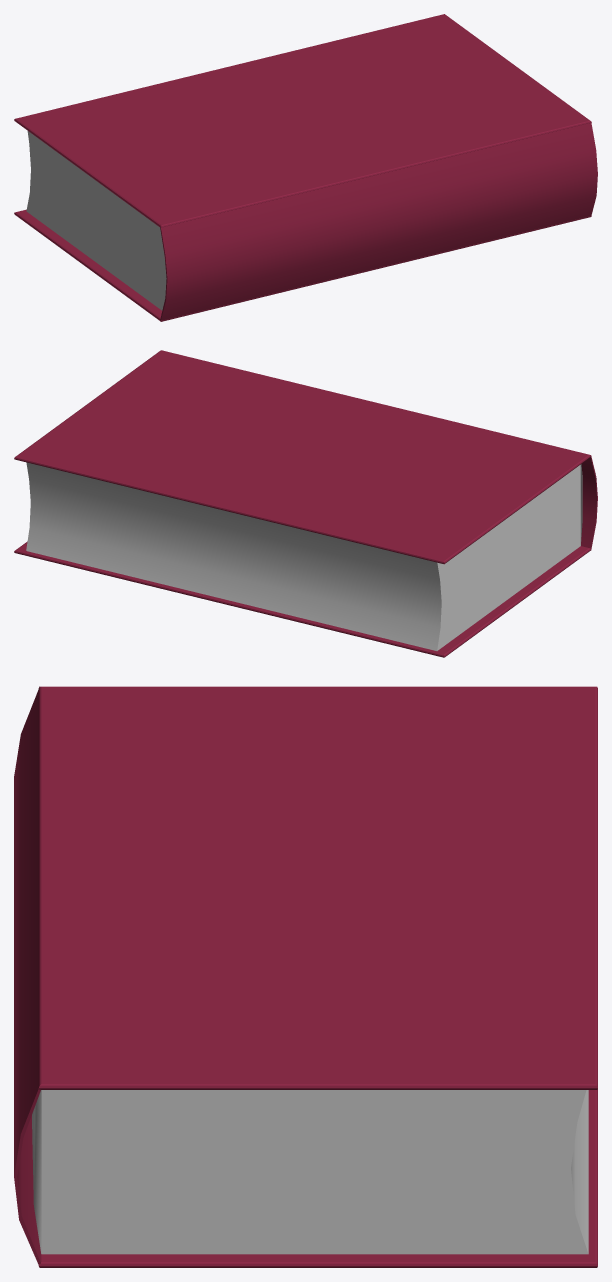
The model's file is red_book.glb.
The picture shows the model from 3 angles, top to bottom: view 1: azimuth 30°, elevation 25°; view 2: azimuth 150°, elevation 25°; view 3: azimuth 270°, elevation 25°; orthographic projection. The views are drawn at different scales.
Visible parts, largest first — view 1: face_avant, tranche, pages, face_arriere; view 2: face_avant, pages, face_arriere, tranche; view 3: face_avant, pages, tranche, face_arriere.
Boxes of the visible parts, left/top/right/bottom form: face_avant: left=14, top=14, right=591, bottom=227; tranche: left=160, top=123, right=597, bottom=321; pages: left=26, top=131, right=166, bottom=310; face_arriere: left=14, top=209, right=591, bottom=321; face_avant: left=14, top=350, right=590, bottom=564; pages: left=26, top=462, right=582, bottom=650; face_arriere: left=14, top=541, right=590, bottom=657; tranche: left=581, top=457, right=596, bottom=548; face_avant: left=38, top=686, right=597, bottom=1089; pages: left=32, top=1090, right=588, bottom=1254; tranche: left=14, top=690, right=40, bottom=1264; face_arriere: left=38, top=1089, right=597, bottom=1267.
Bounding box in the file's own units: 17.61 × 3.77 × 10.86.
